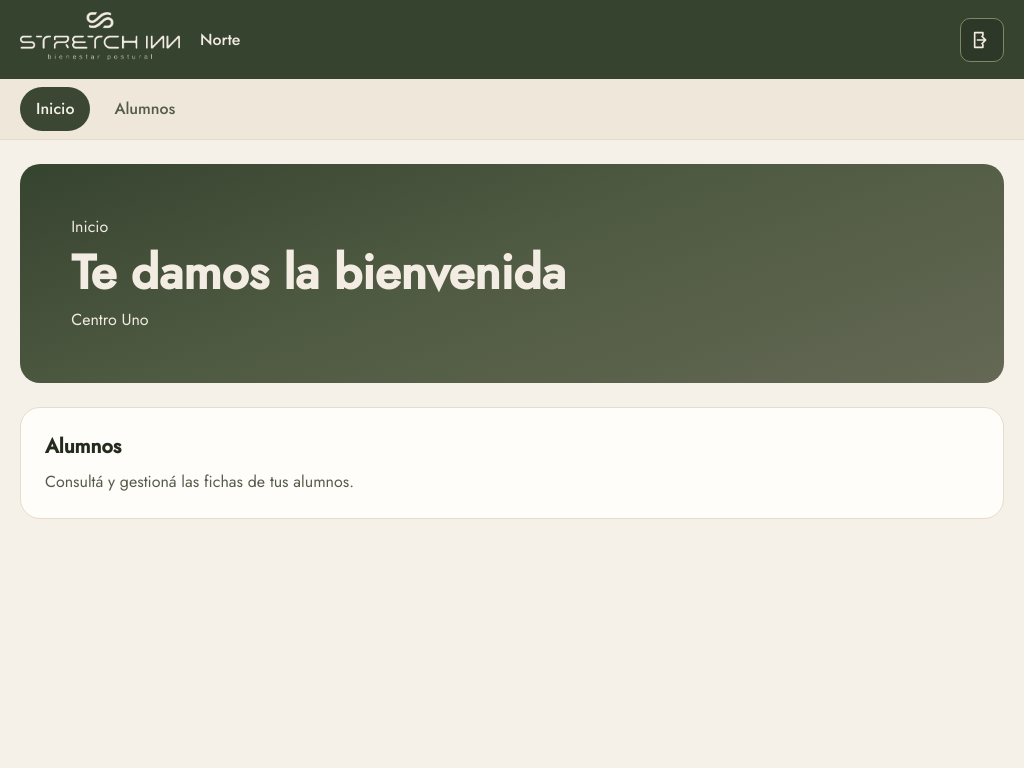
it: lista › quien edita y da de baja tiene «Sumar alumno», «Editar» y «Dar de baja»
Click the link "Alumnos": [145, 109] box [114, 97, 175, 120]
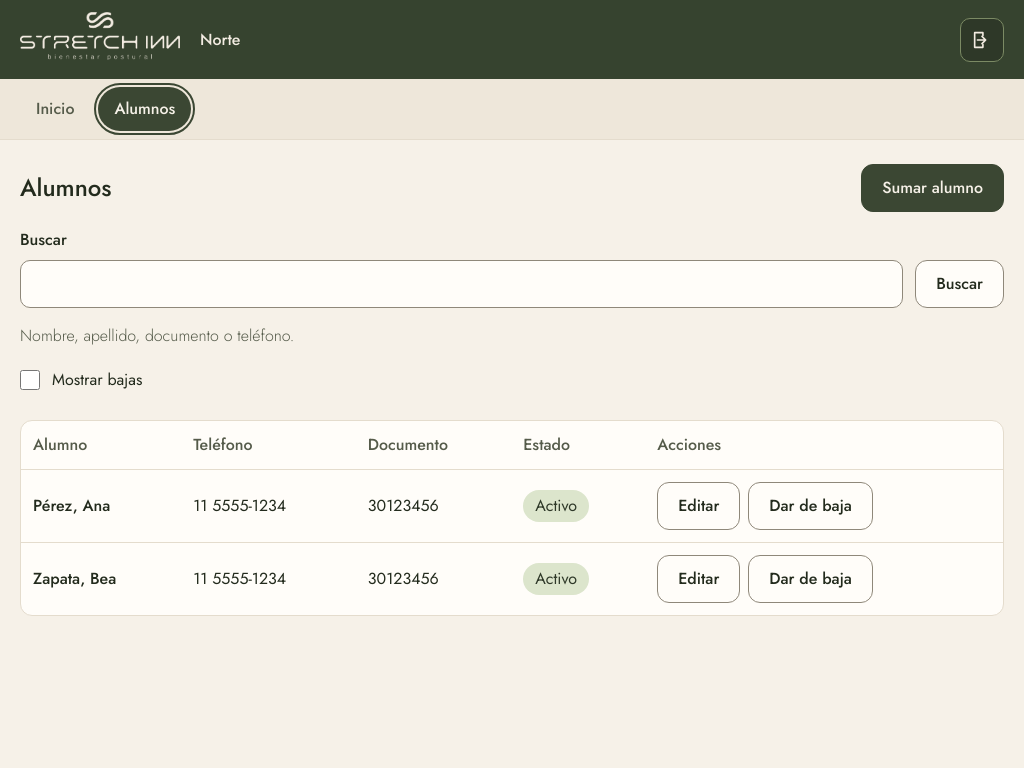
Expected: the heading "Alumnos" is shown, [20, 170, 111, 206]
Now the buttons read "Editar", "Dar de baja", in this order, box [657, 482, 740, 530]; [748, 482, 873, 530]
Now the button "Sumar alumno" is shown, box [861, 164, 1004, 212]
